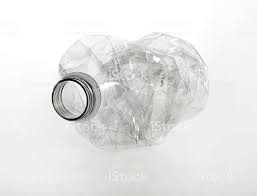bottle: (53, 36, 208, 149)
plastic: (54, 34, 208, 149)
